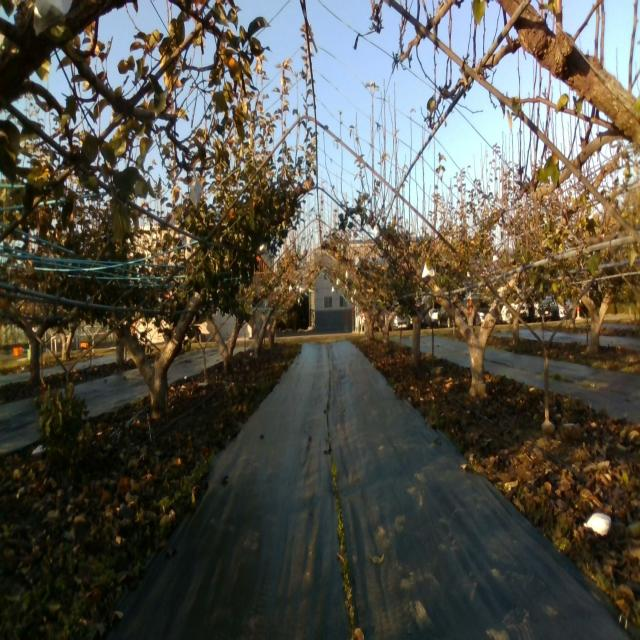pearbags: (189, 167, 202, 207)
